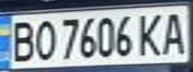0: (93, 14, 118, 58)
6: (112, 11, 139, 57), (78, 13, 100, 60)
7: (57, 15, 81, 61)
A: (157, 8, 190, 55)
B: (3, 18, 39, 63)
K: (136, 10, 169, 57)
O: (30, 17, 57, 62)
